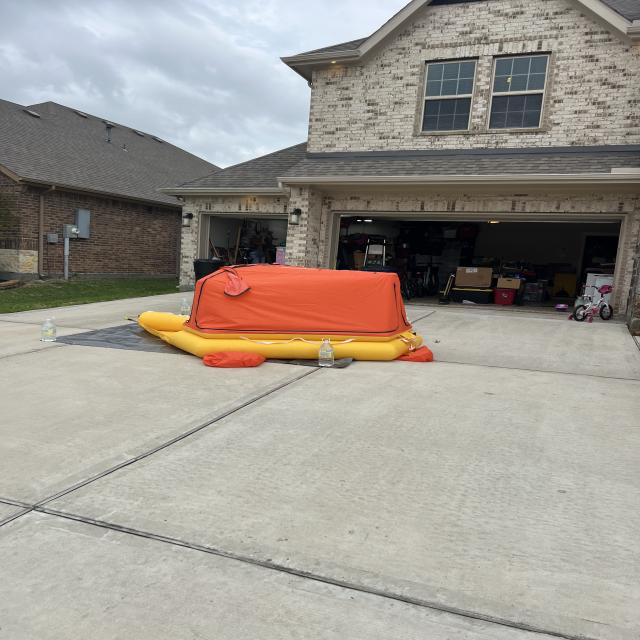Multi-person_life_raft: (138, 264, 434, 370)
